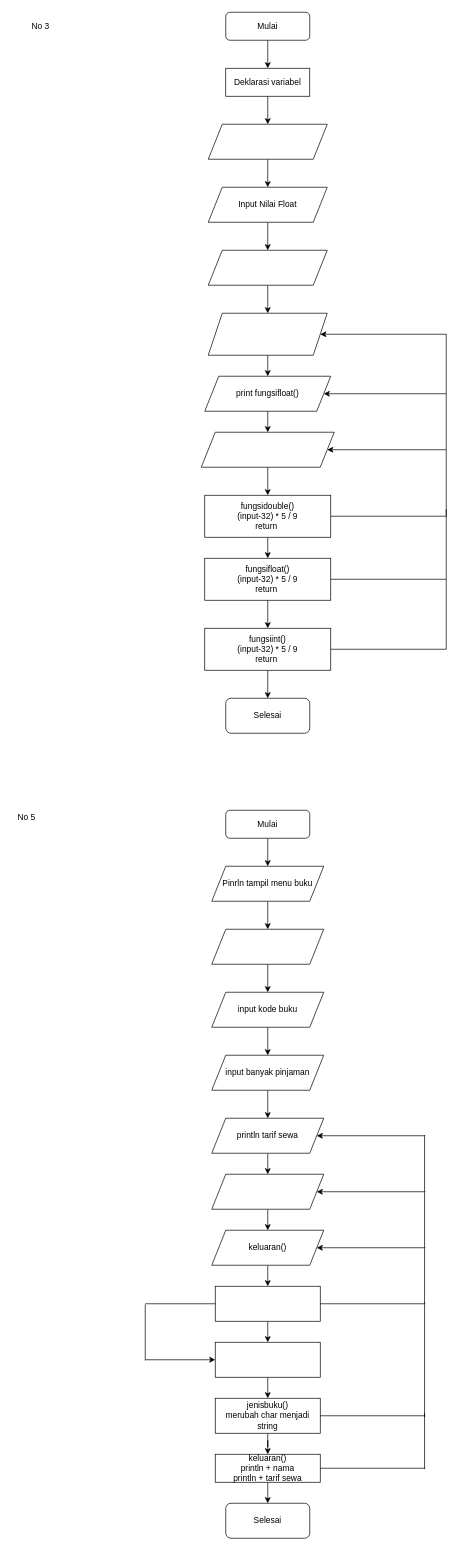
This 464x1551 diagram has some shape labels left out. The centre of each missing label's shape, as x and y in pixels:
"hargabuku(char) berubah menjadi nilai int" belongs at pixel 267 1303.
"Input Nama" belongs at pixel 267 946.
"Input nilai double" belongs at pixel 267 141.
"Input nilai Integer" belongs at pixel 267 267.
"jenisbuku()" belongs at pixel 267 1191.
"print fungsiInt()" belongs at pixel 267 449.
"println fungsidouble()" belongs at pixel 267 334.
"tarifsewa() hargabuku() * banyak" belongs at pixel 267 1359.
